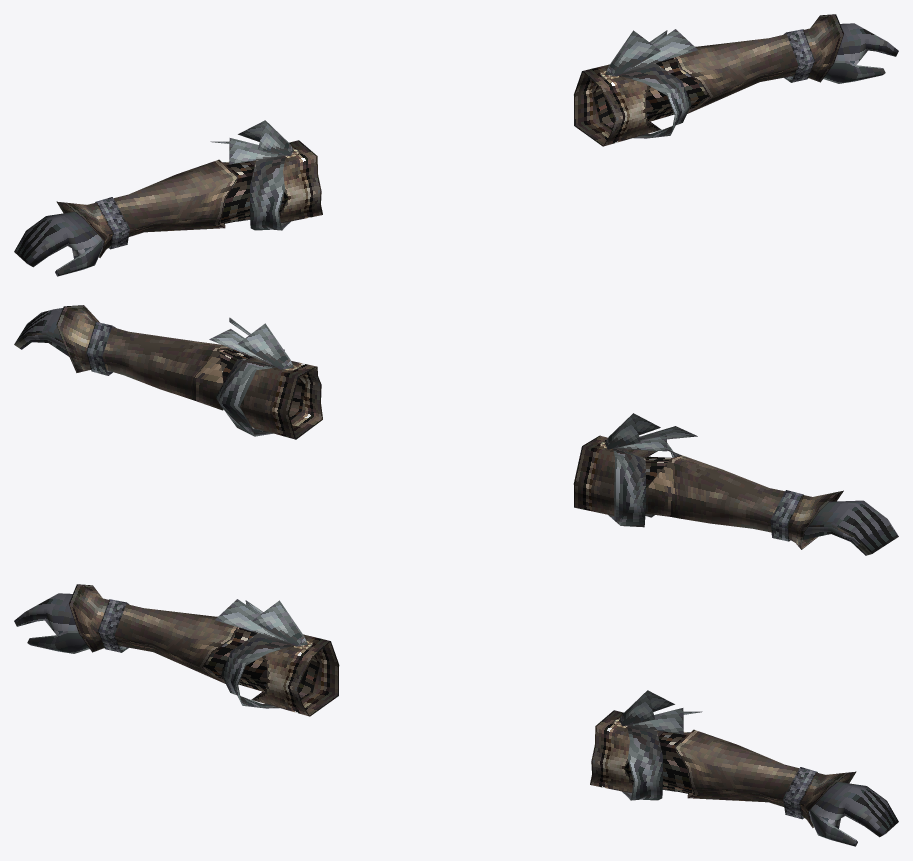
The model's file is f_gauntlet312.obj.
3 views of the same model, one above another, from view 1: azimuth 30°, elevation 25°; view 2: azimuth 150°, elevation 25°; view 3: azimuth 330°, elevation 25° (orthographic).
Visible parts, largest first — view 1: mesh00, mesh01; view 2: mesh00, mesh01; view 3: mesh00, mesh01.
Boxes of the visible parts, box(x1,y1,x2,y2) form: mesh00: box(14, 14, 898, 276); mesh01: box(95, 29, 814, 249); mesh00: box(14, 305, 898, 555); mesh01: box(86, 317, 803, 541); mesh00: box(14, 584, 898, 846); mesh01: box(98, 599, 817, 819).
Bounding box in the file's own units: 172 × 19.71 × 17.55.
2 materials, 2 textured.
